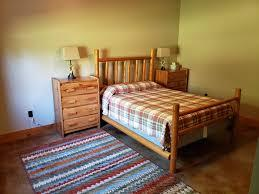bed: (97, 44, 246, 178)
light: (60, 44, 82, 80), (154, 45, 171, 70)
table: (53, 73, 101, 141), (156, 65, 190, 91)
